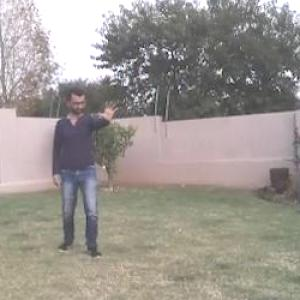follow_hand: (98, 94, 121, 124)
